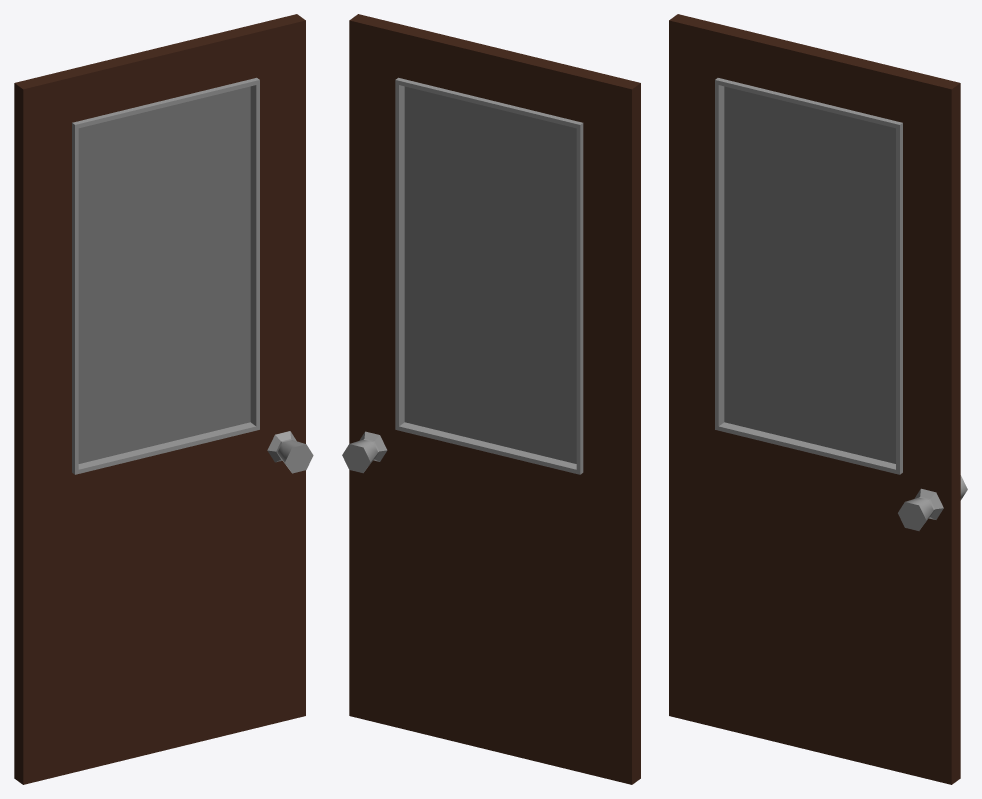
File: SM_door_office.fbx
3 renders of one model, left to right at view 1: azimuth 30°, elevation 25°; view 2: azimuth 150°, elevation 25°; view 3: azimuth 330°, elevation 25°, orthographic.
Visible parts, largest first — view 1: Object32279; view 2: Object32279; view 3: Object32279.
Part boxes in pixels (x1,y1,x2,y2): Object32279: (14,14,313,784); Object32279: (342,14,640,784); Object32279: (669,14,967,784).
Size of the model in its own units: 38.7 by 91.01 by 9.88.
